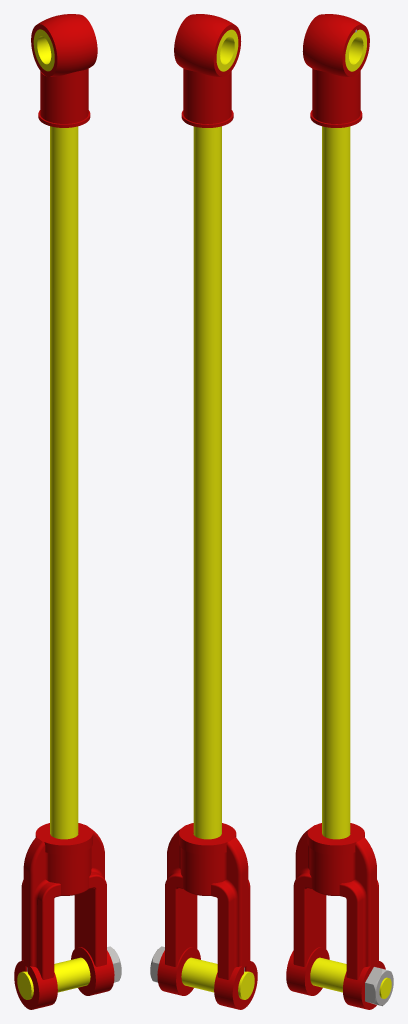
File: Batang_Penghubung.glb
3 views of the same model, side by side, from view 1: azimuth 30°, elevation 25°; view 2: azimuth 150°, elevation 25°; view 3: azimuth 330°, elevation 25° (orthographic).
Parts seen in each view (by area): view 1: Solid1 (×6); view 2: Solid1 (×6); view 3: Solid1 (×6).
Boxes of the visible parts, <box> form: Solid1 (×6): <box>14,14,121,1009</box>; Solid1 (×6): <box>150,14,257,1009</box>; Solid1 (×6): <box>286,14,393,1009</box>.
Size of the model in its own units: 0.1842 by 1.92 by 0.1091.
